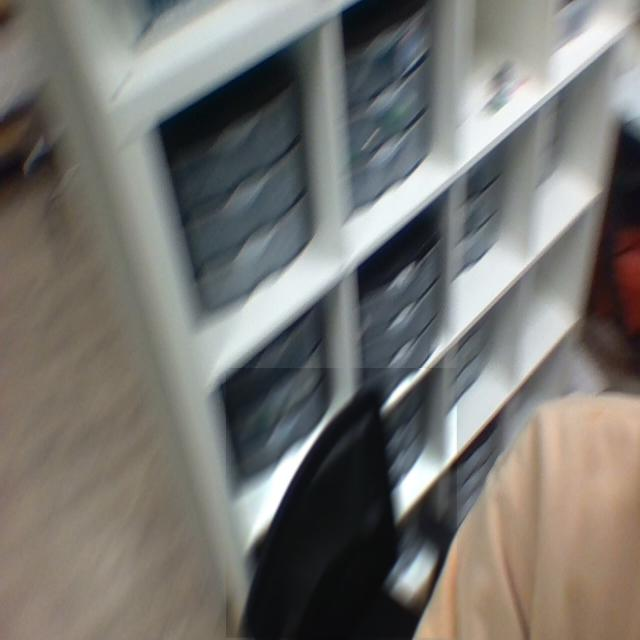black-chair: (226, 368, 458, 639)
